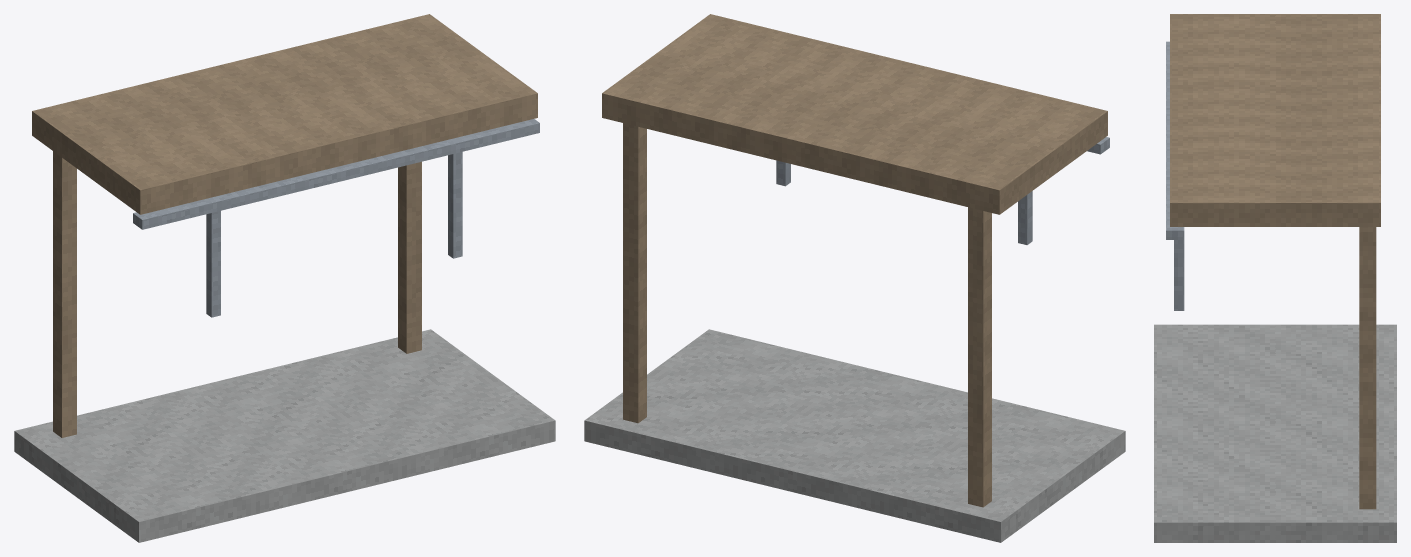
Rendered from level_blockout_motel_walkway_canopy.glb.
3 views of the same model, side by side, from view 1: azimuth 30°, elevation 25°; view 2: azimuth 150°, elevation 25°; view 3: azimuth 270°, elevation 25° (orthographic). The views are drawn at different scales.
Parts seen in each view (by area): view 1: level_blockout_motel_walkway_canopy; view 2: level_blockout_motel_walkway_canopy; view 3: level_blockout_motel_walkway_canopy.
Boxes of the visible parts, x1,y1,x2,y2 form: level_blockout_motel_walkway_canopy: [14, 14, 555, 542]; level_blockout_motel_walkway_canopy: [584, 14, 1125, 542]; level_blockout_motel_walkway_canopy: [1154, 14, 1396, 542].
Size of the model in its own units: 3.55 by 2.82 by 1.84.
3 materials, 3 textured.
